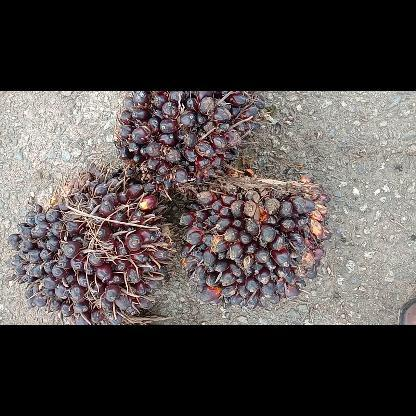TBS mentah: (9, 168, 169, 324), (181, 169, 331, 307), (114, 91, 262, 190)
